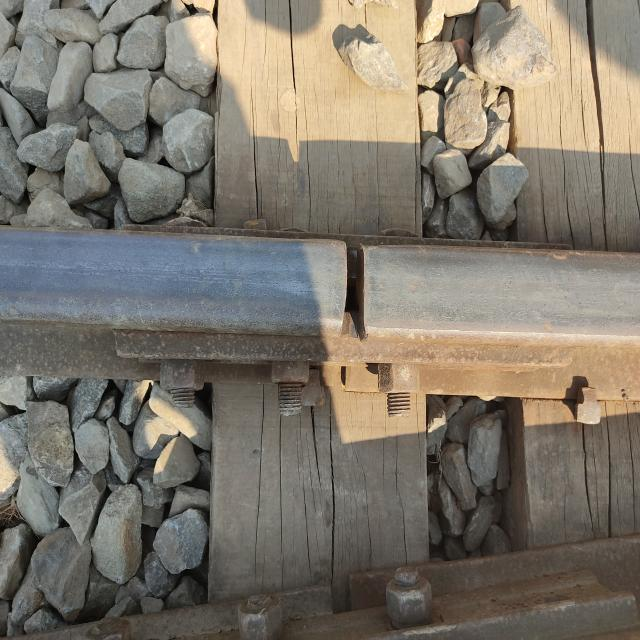defective: (258, 185, 490, 416)
